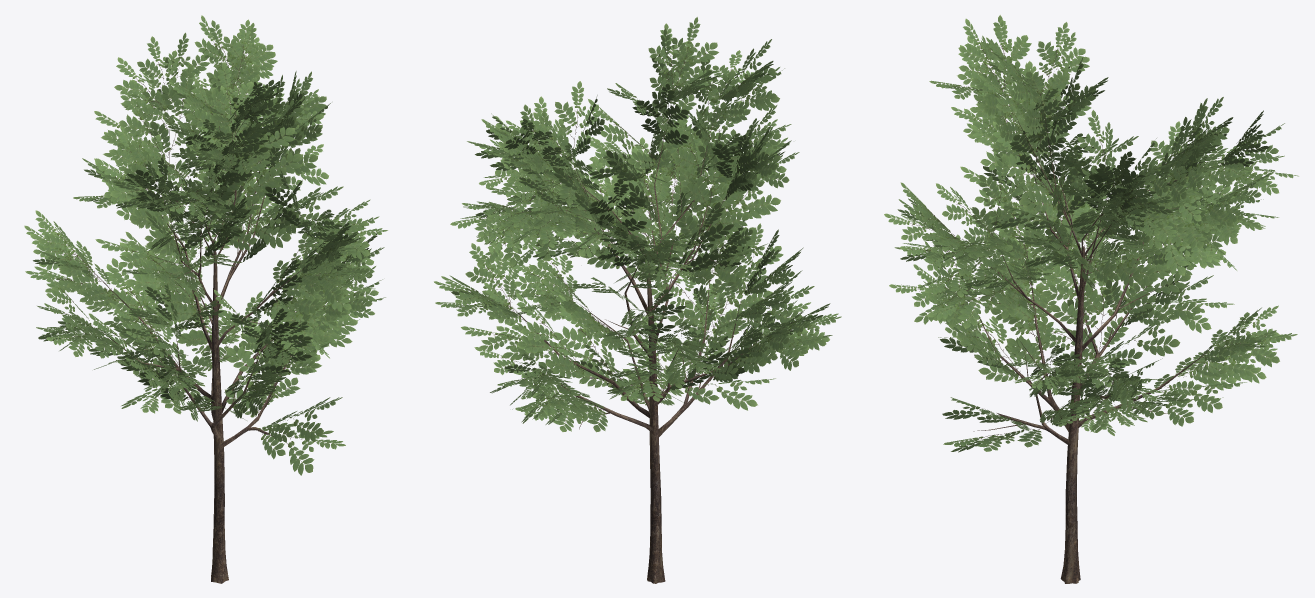
Rendered from Tree.fbx.
The picture shows the model from 3 angles, left to right: view 1: azimuth 30°, elevation 25°; view 2: azimuth 150°, elevation 25°; view 3: azimuth 270°, elevation 25°; orthographic projection. The views are drawn at different scales.
Parts seen in each view (by area): view 1: Tree_LOD0; view 2: Tree_LOD0; view 3: Tree_LOD0.
Boxes of the visible parts, x1=… form: Tree_LOD0: x1=24, y1=15, x2=387, y2=583; Tree_LOD0: x1=434, y1=17, x2=841, y2=583; Tree_LOD0: x1=884, y1=15, x2=1298, y2=583.
Size of what is drawn, in the model's own units: 560 by 728 by 513.
Materials: 2 (2 with a texture image).
